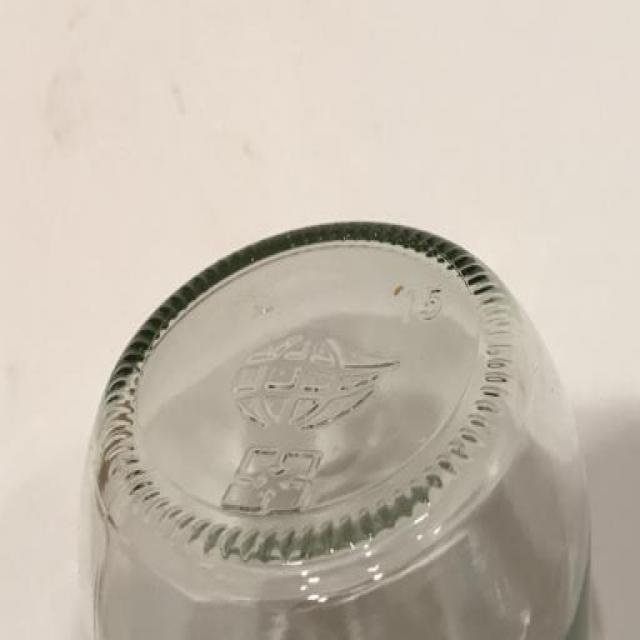glass: (54, 201, 640, 640)
